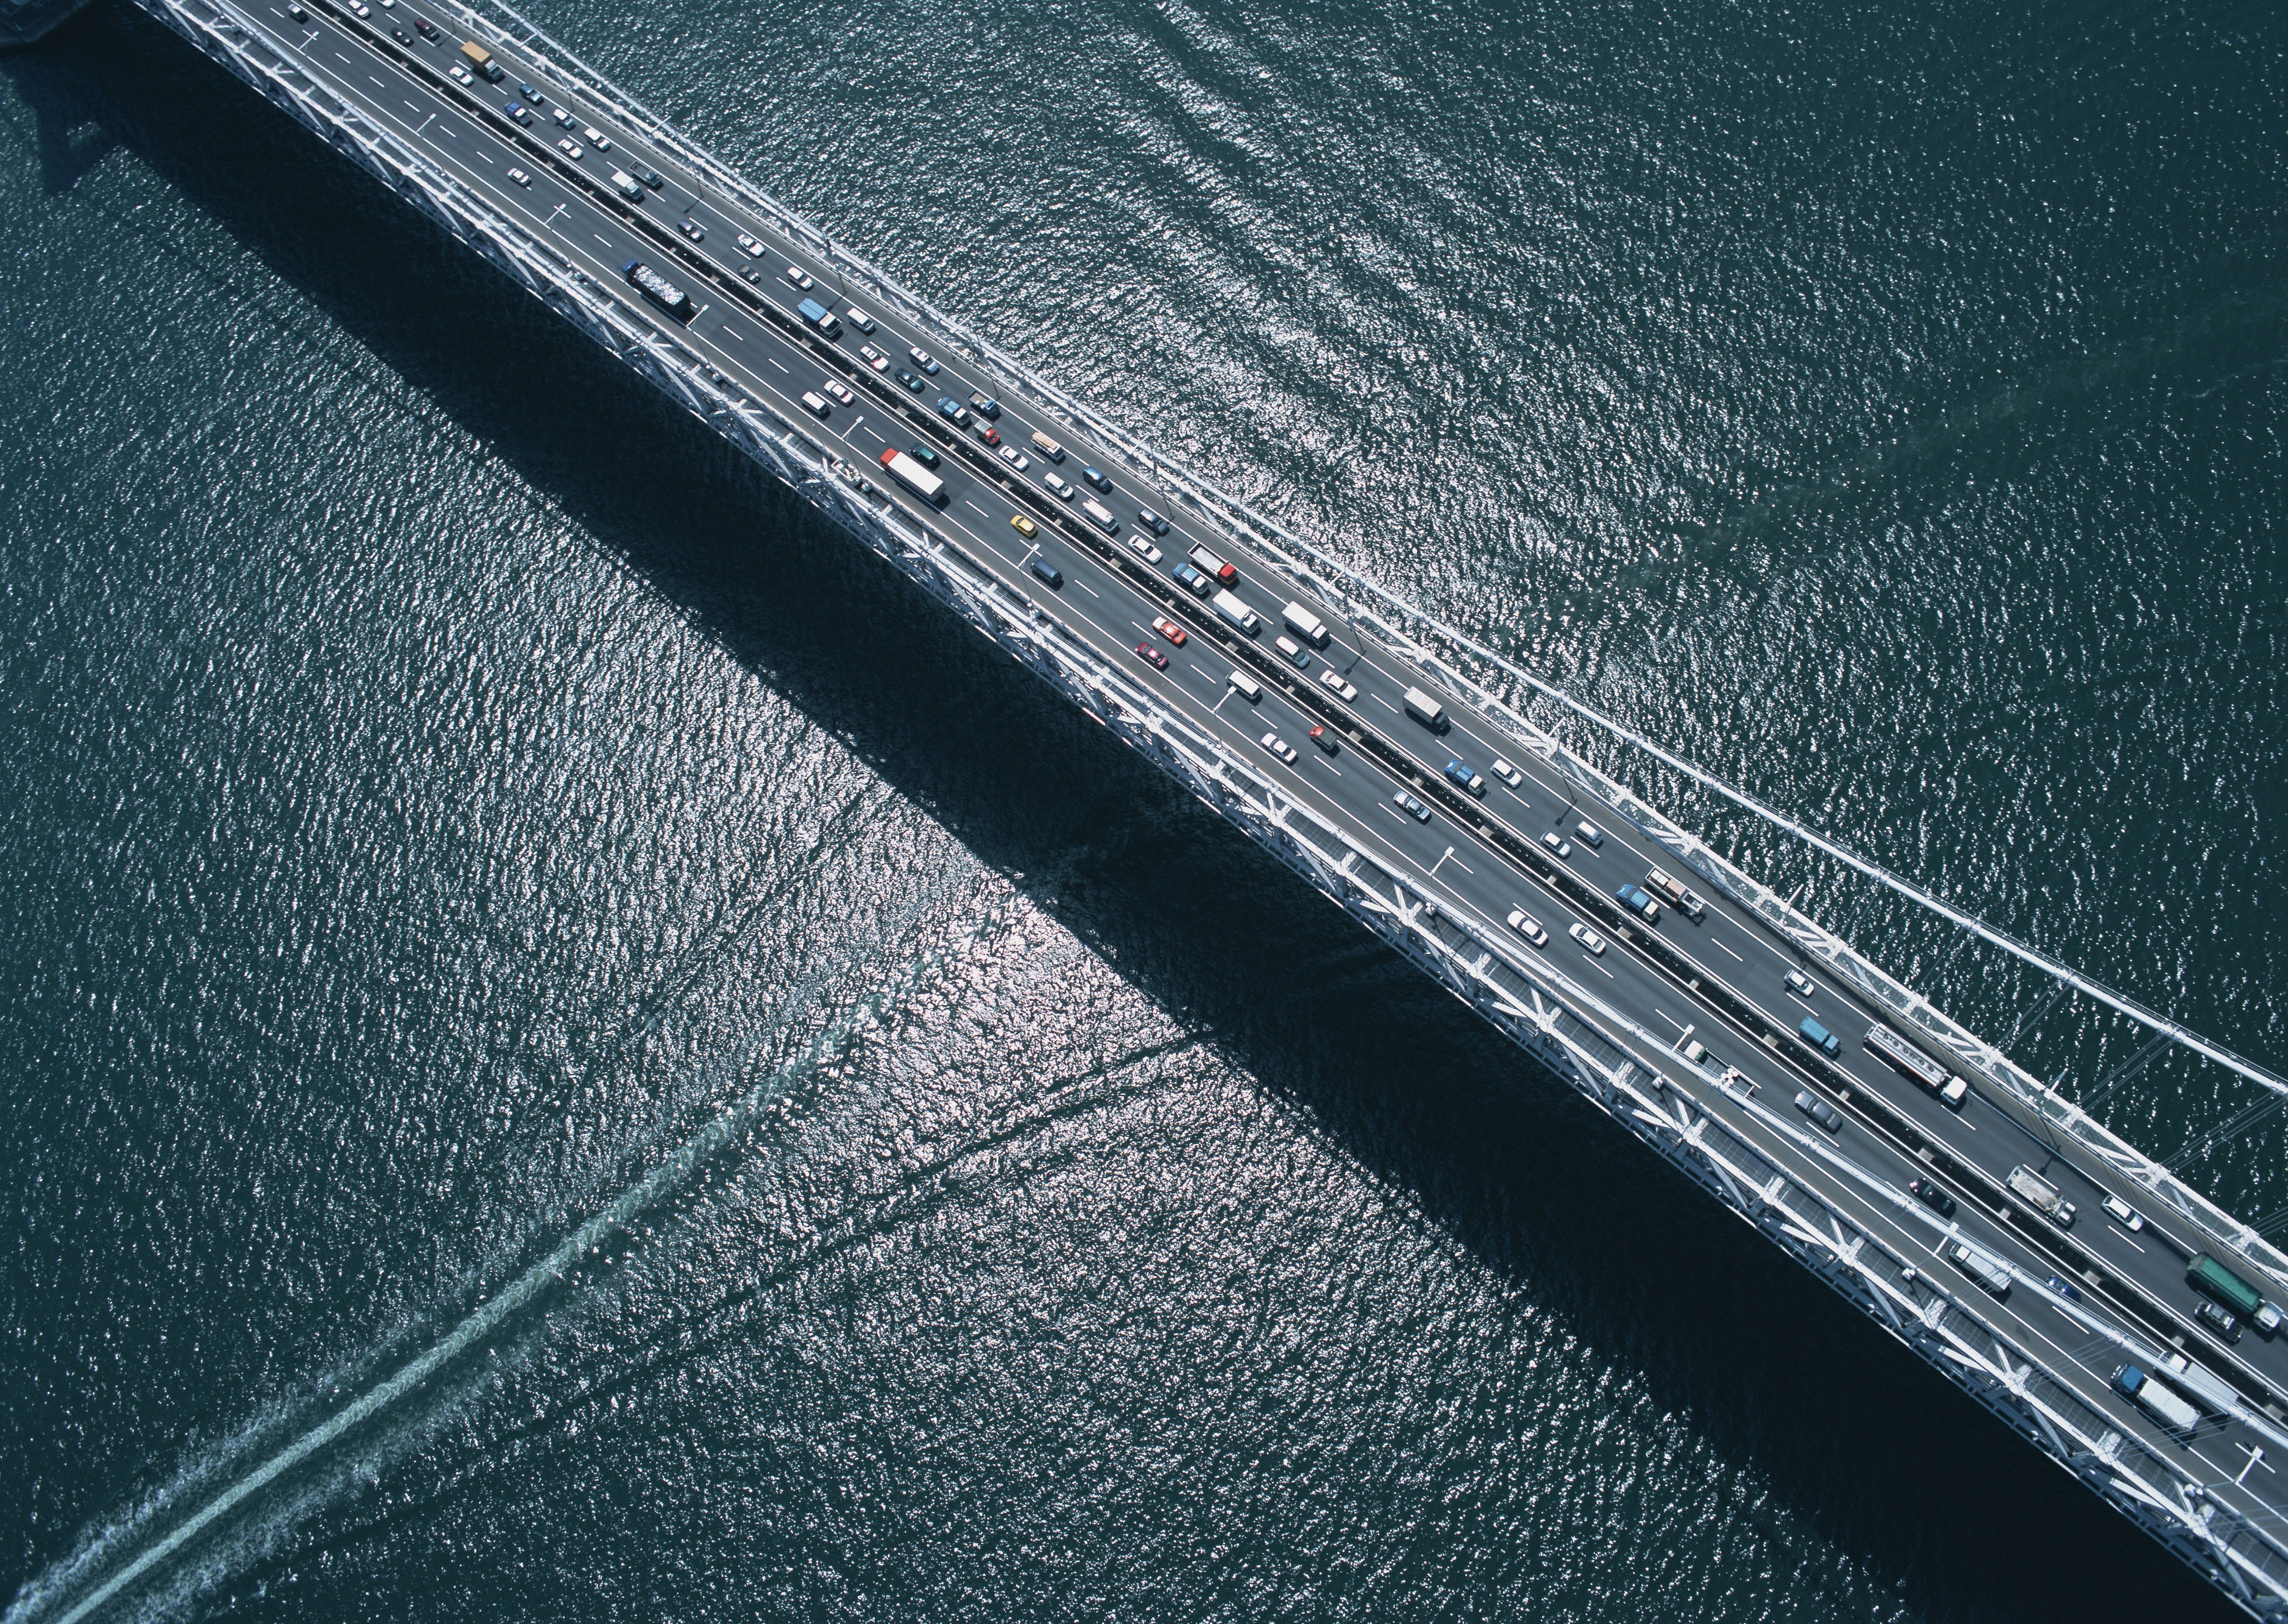Vehicle: (1863, 1021, 1968, 1106), (2186, 1250, 2286, 1334), (2109, 1362, 2204, 1432), (2154, 1350, 2239, 1410), (2005, 1164, 2079, 1229), (1682, 1039, 1757, 1098), (622, 255, 691, 311), (1641, 863, 1706, 919), (880, 448, 945, 503), (1949, 1241, 2012, 1290), (1211, 585, 1262, 634), (1281, 601, 1332, 647), (1188, 541, 1239, 585), (1907, 1176, 1958, 1220), (1402, 685, 1450, 731), (2193, 1302, 2246, 1343), (1794, 1090, 1843, 1132), (1615, 882, 1662, 923), (798, 297, 844, 337), (1796, 1016, 1842, 1055), (460, 39, 503, 79), (1508, 909, 1548, 947), (2102, 1195, 2142, 1234), (1443, 759, 1487, 794), (2044, 1272, 2082, 1308), (1126, 533, 1163, 566), (1320, 670, 1358, 701), (1568, 923, 1606, 954), (937, 395, 972, 429), (1172, 562, 1207, 596), (1082, 499, 1118, 533), (1223, 670, 1262, 700), (1394, 791, 1432, 821), (1262, 733, 1299, 763), (1032, 431, 1065, 462), (626, 158, 661, 188), (1490, 758, 1522, 789), (996, 443, 1030, 473), (1276, 636, 1309, 666), (1135, 640, 1170, 668), (910, 344, 940, 376), (1151, 615, 1184, 643), (612, 170, 641, 200), (1139, 506, 1170, 534), (967, 390, 1000, 417), (894, 366, 924, 394), (1032, 555, 1061, 584), (1539, 831, 1571, 858), (1784, 970, 1815, 997), (1084, 464, 1112, 492), (1575, 819, 1604, 845), (1309, 724, 1339, 750), (824, 380, 856, 404), (845, 306, 873, 332), (736, 232, 766, 257), (861, 344, 891, 369), (1044, 475, 1074, 499), (909, 443, 940, 466), (801, 390, 828, 417), (972, 420, 998, 446), (786, 267, 815, 290), (413, 16, 439, 40), (503, 98, 529, 123), (585, 127, 612, 151), (678, 218, 705, 241), (1010, 513, 1039, 534), (448, 65, 474, 86), (520, 81, 543, 104), (508, 165, 532, 186), (552, 105, 573, 128), (390, 26, 415, 46), (557, 139, 582, 158), (348, 0, 371, 18), (738, 264, 759, 281), (288, 4, 304, 19)
